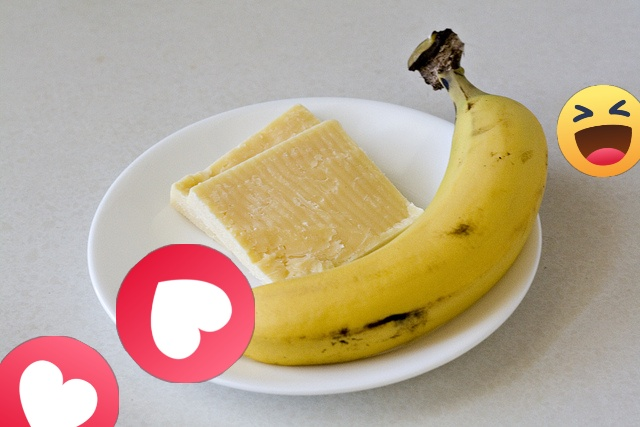haha: (557, 85, 640, 177)
love: (116, 244, 255, 383), (0, 336, 119, 427)
